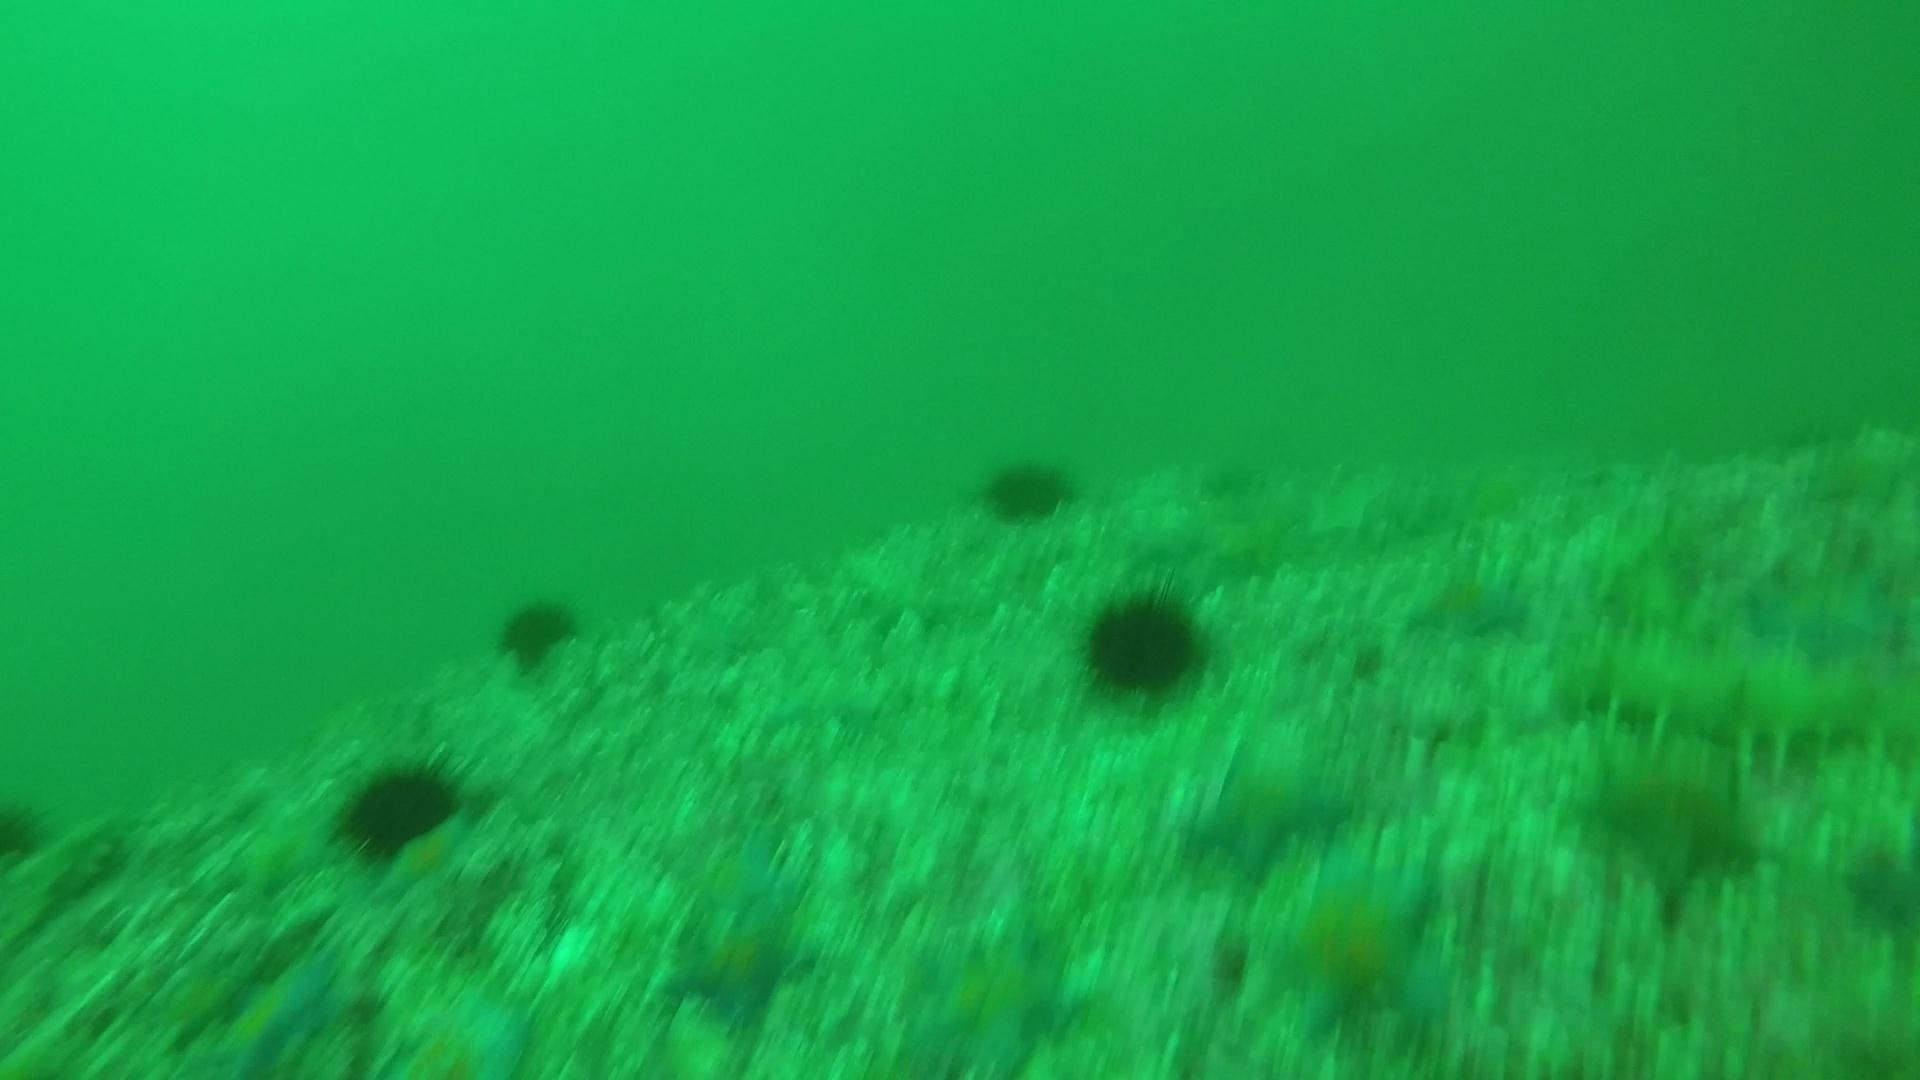echinus: (1076, 579, 1212, 703), (334, 752, 465, 865), (978, 451, 1076, 526), (493, 591, 580, 673), (0, 793, 51, 870)
holothurian: (1551, 626, 1917, 764)
starfish: (1263, 847, 1455, 1040), (899, 922, 1095, 1077), (1584, 733, 1768, 897), (665, 833, 808, 1031), (1175, 736, 1356, 878), (195, 949, 349, 1077), (1745, 550, 1898, 666), (372, 978, 534, 1079), (1404, 555, 1534, 645), (1801, 419, 1917, 516), (376, 806, 483, 901)
